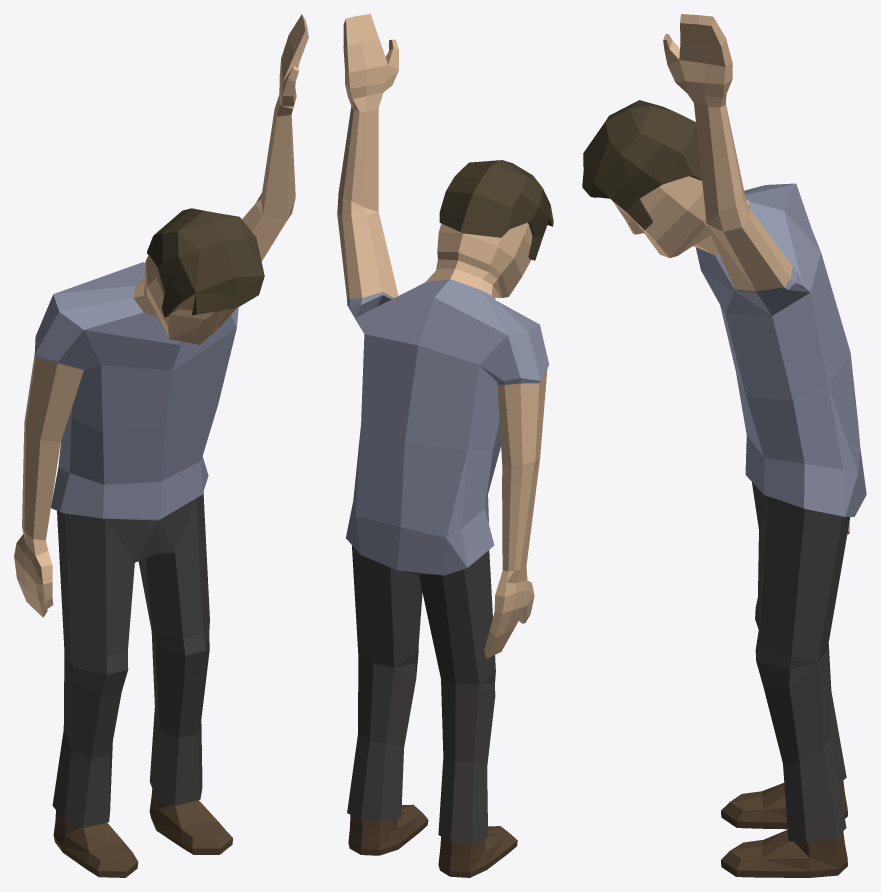
Rendered from Male_Crowd_HeadBangingLeft.glb.
3 renders of one model, left to right at view 1: azimuth 30°, elevation 25°; view 2: azimuth 150°, elevation 25°; view 3: azimuth 270°, elevation 25°, orthographic. The views are drawn at different scales.
Visible parts, largest first — view 1: Male_Crowd_HeadBangingLeft; view 2: Male_Crowd_HeadBangingLeft; view 3: Male_Crowd_HeadBangingLeft.
Part boxes in pixels (x1=…): Male_Crowd_HeadBangingLeft: x1=14, y1=14, x2=308, y2=877; Male_Crowd_HeadBangingLeft: x1=337, y1=14, x2=553, y2=877; Male_Crowd_HeadBangingLeft: x1=582, y1=14, x2=866, y2=877.
Size of the model in its own units: 0.629 by 2.05 by 0.5923.
